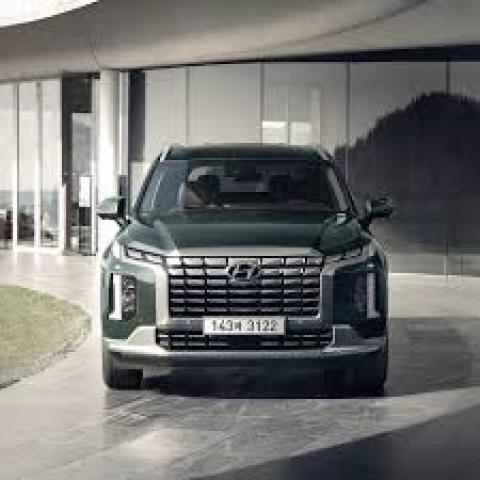LP: (198, 308, 289, 339)
